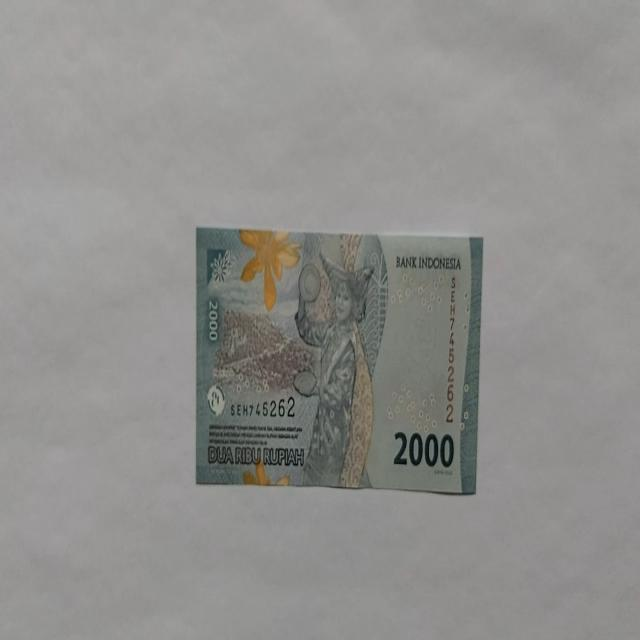dua ribu rupiah: (194, 226, 483, 494), (292, 252, 376, 488)
